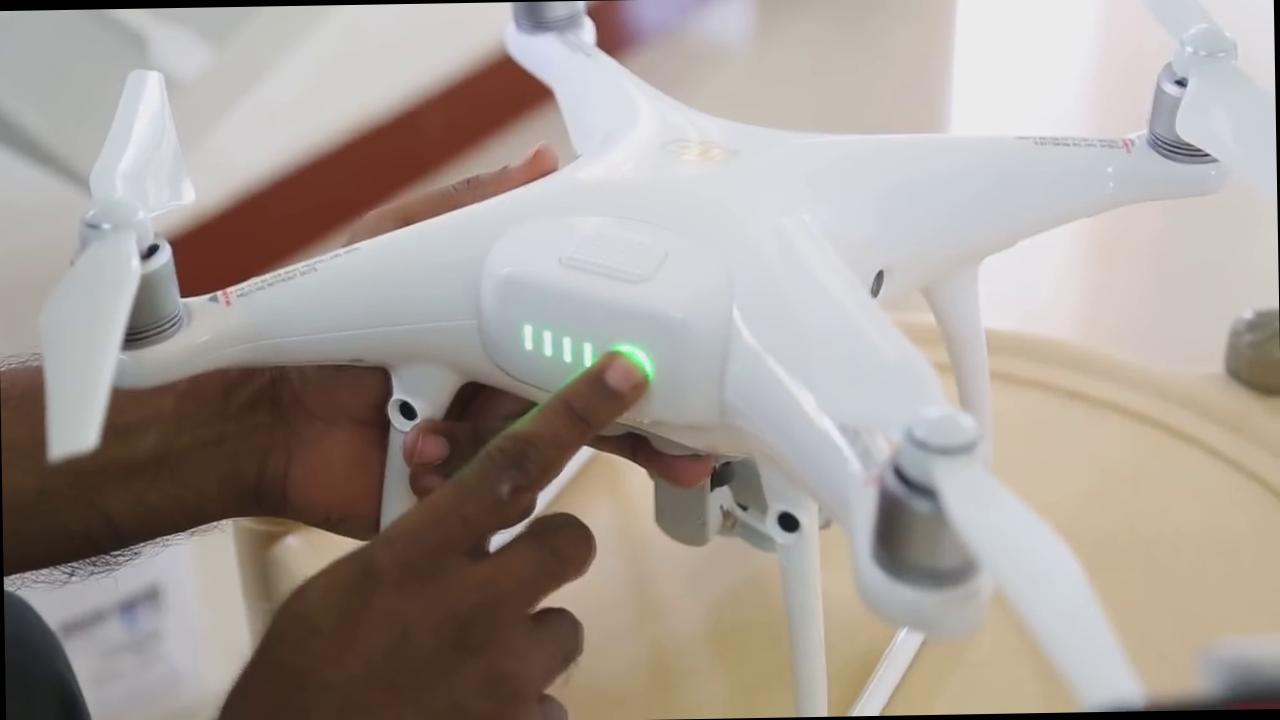drone: (28, 0, 1280, 695)
